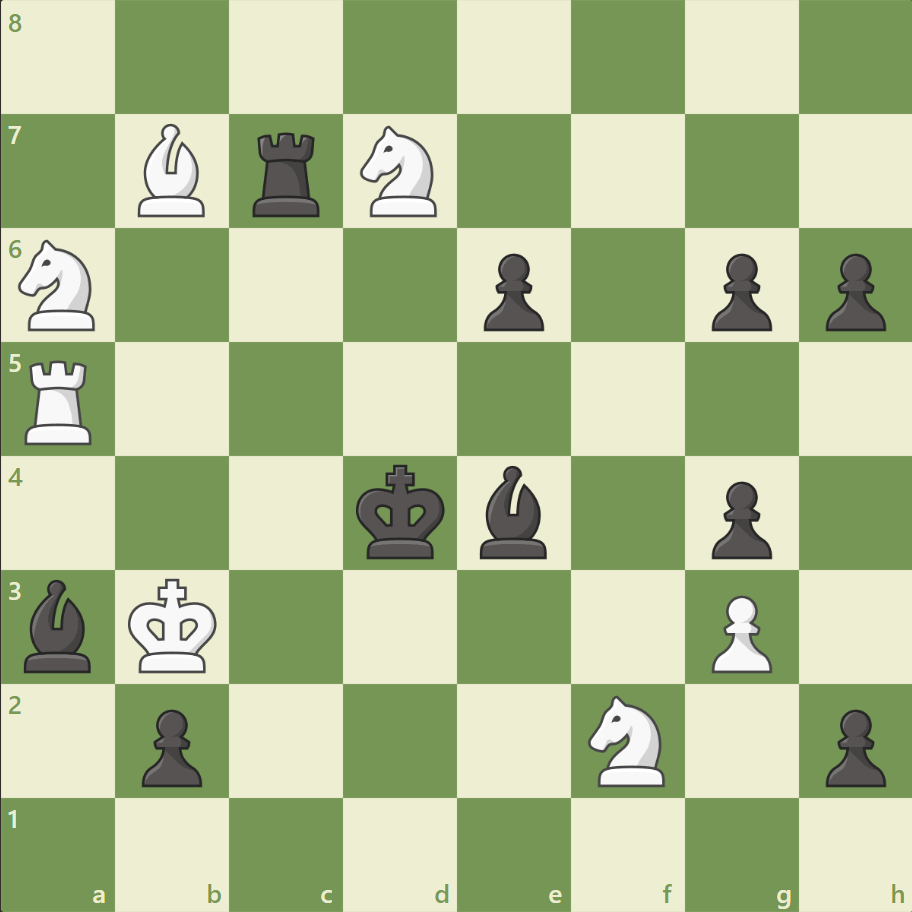B: (131, 120, 215, 222)
K: (124, 571, 224, 679)
N: (351, 121, 449, 223), (11, 234, 108, 337), (579, 688, 676, 791)
P: (701, 586, 776, 677)
R: (19, 352, 102, 449)
b: (471, 460, 555, 563), (17, 574, 101, 676)
k: (351, 458, 451, 566)
p: (474, 246, 549, 337), (701, 246, 776, 337), (701, 473, 776, 564), (133, 700, 208, 791), (815, 246, 889, 337), (815, 700, 889, 791)
r: (246, 125, 329, 222)
